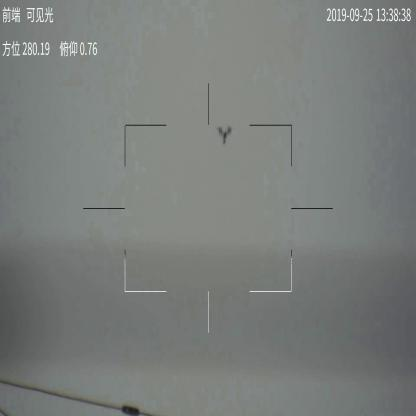uav: (215, 122, 233, 147)
